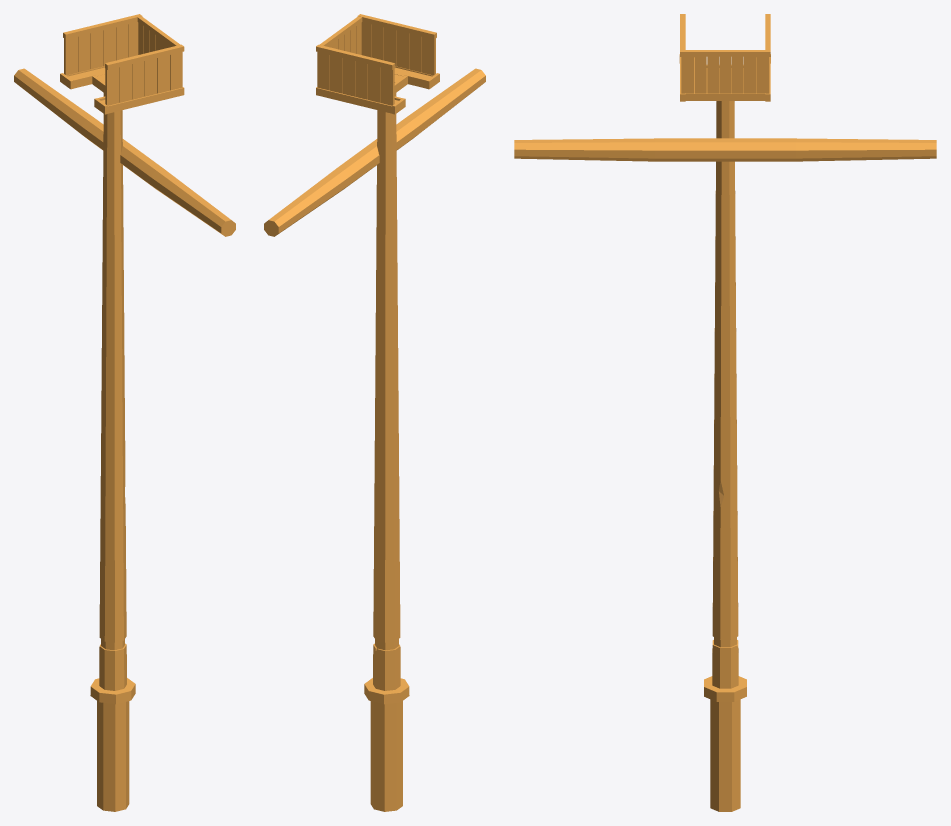
The model's file is sail.fbx.
The picture shows the model from 3 angles, left to right: view 1: azimuth 30°, elevation 25°; view 2: azimuth 150°, elevation 25°; view 3: azimuth 270°, elevation 25°; orthographic projection.
Parts seen in each view (by area): view 1: sail; view 2: sail; view 3: sail.
Part boxes in pixels (x1,y1,x2,y2): sail: [14, 14, 235, 811]; sail: [264, 14, 485, 811]; sail: [514, 14, 936, 811].
Size of the model in its own units: 1.65 by 15.16 by 7.46.
